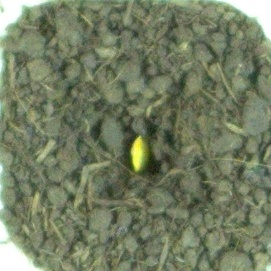pepper seed: (51, 47, 205, 220)
